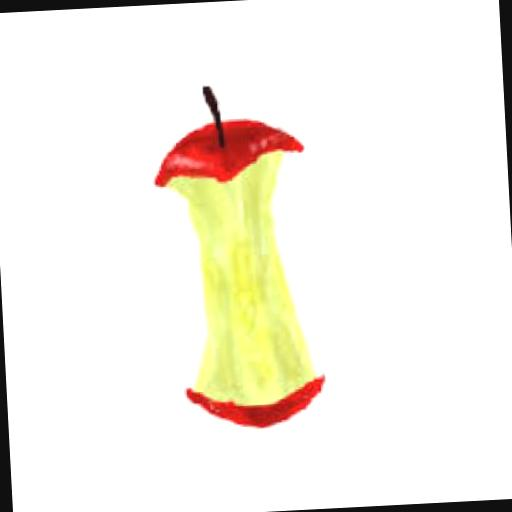biodegradable: (148, 76, 326, 432)
